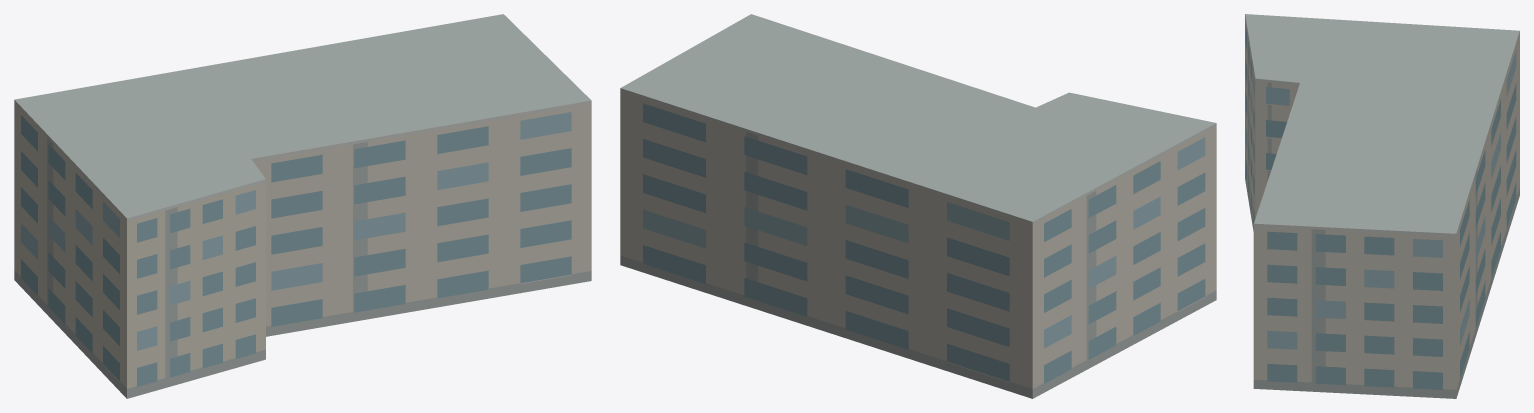
The model's file is residential-4f928172-13b0-4474-8335-2076903bfbf0.glb.
3 renders of one model, left to right at view 1: azimuth 30°, elevation 25°; view 2: azimuth 150°, elevation 25°; view 3: azimuth 270°, elevation 25°, orthographic. The views are drawn at different scales.
Visible parts, largest first — view 1: residential-4f928172-13b0-4474-8335-2076903bfbf0.tmp; view 2: residential-4f928172-13b0-4474-8335-2076903bfbf0.tmp; view 3: residential-4f928172-13b0-4474-8335-2076903bfbf0.tmp.
Part boxes in pixels (x1,y1,x2,y2): residential-4f928172-13b0-4474-8335-2076903bfbf0.tmp: (14,14,591,398); residential-4f928172-13b0-4474-8335-2076903bfbf0.tmp: (620,14,1216,398); residential-4f928172-13b0-4474-8335-2076903bfbf0.tmp: (1245,14,1519,398).
Bounding box in the file's own units: 43.53 × 15.25 × 23.
